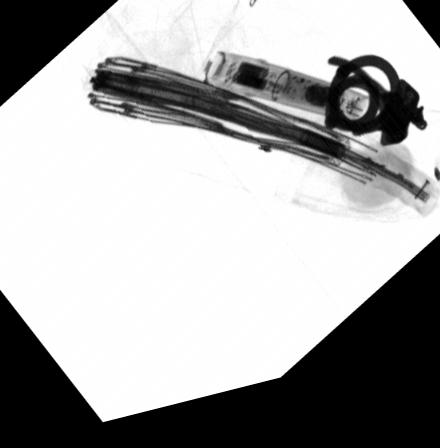Baton: (201, 58, 375, 144)
HandCuffs: (321, 70, 429, 166)
